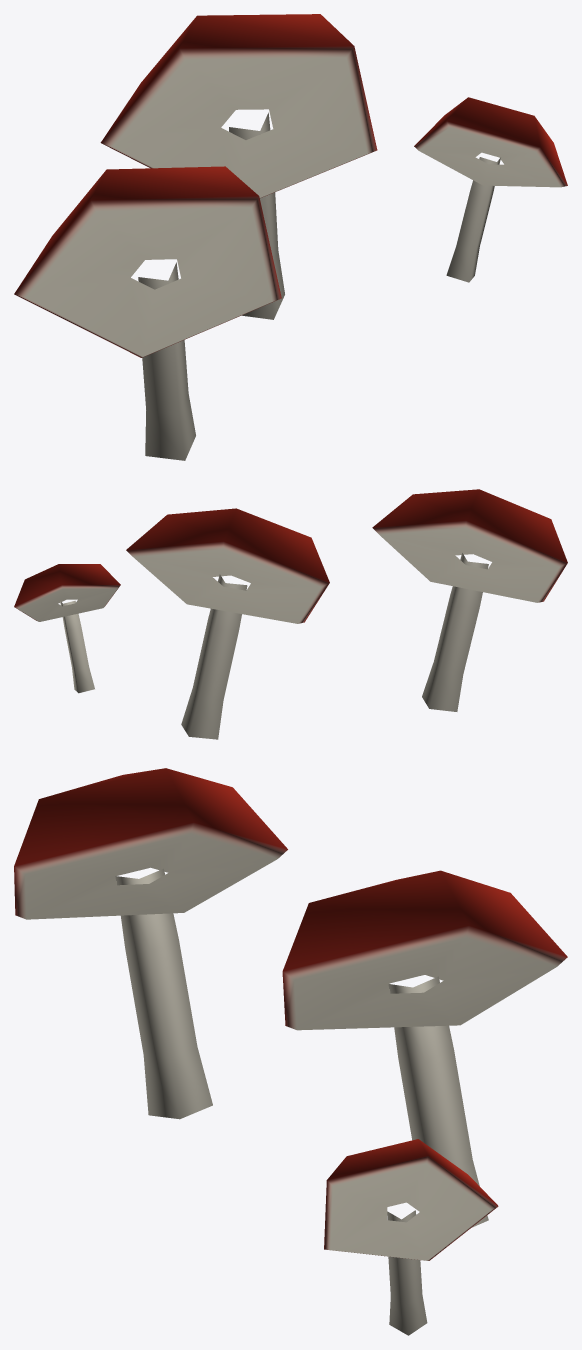
File: mushroom-fly-agaric-a.lod2.glb
3 renders of one model, top to bottom at view 1: azimuth 30°, elevation 25°; view 2: azimuth 150°, elevation 25°; view 3: azimuth 270°, elevation 25°, orthographic. The views are drawn at different scales.
Visible parts, largest first — view 1: mushroom-fly-agaric-a.lod2; view 2: mushroom-fly-agaric-a.lod2; view 3: mushroom-fly-agaric-a.lod2.
Part boxes in pixels (x1,y1,x2,y2): mushroom-fly-agaric-a.lod2: (14,14,567,460); mushroom-fly-agaric-a.lod2: (14,489,567,739); mushroom-fly-agaric-a.lod2: (14,768,567,1335).
Size of the model in its own units: 0.3455 by 0.1537 by 0.2349.
